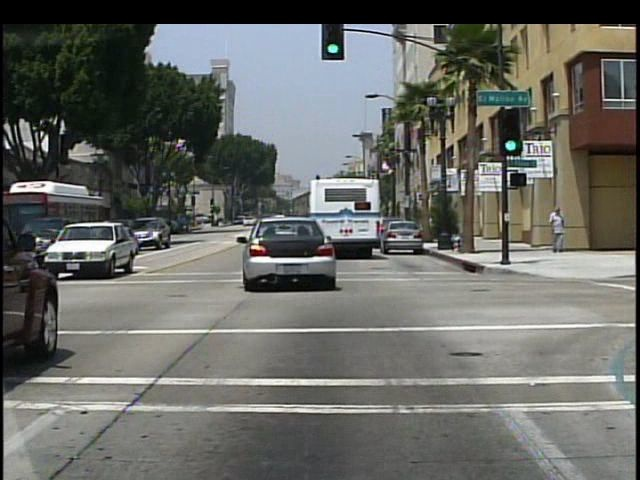person: (547, 206, 567, 255)
